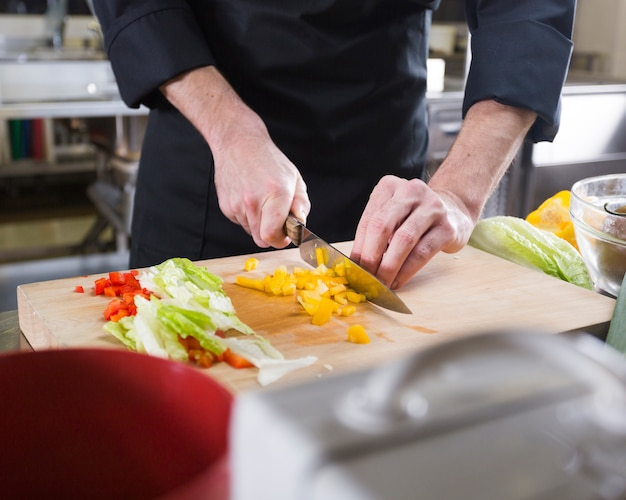knife: (294, 223, 414, 316)
